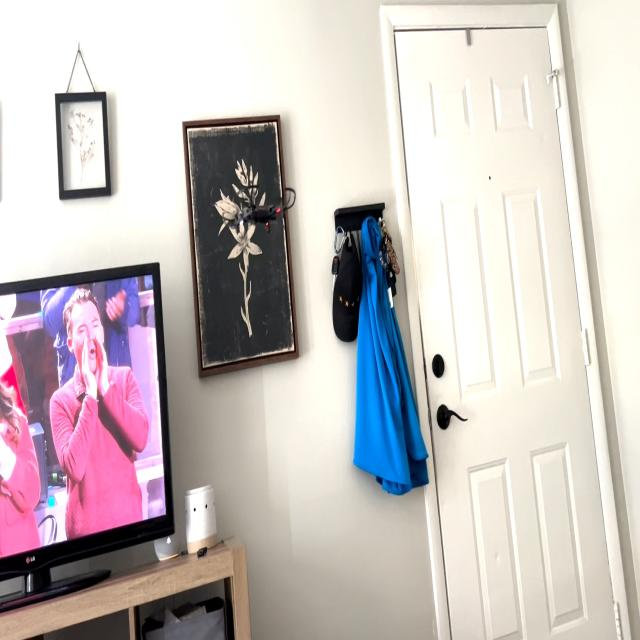drone: (216, 165, 307, 229)
